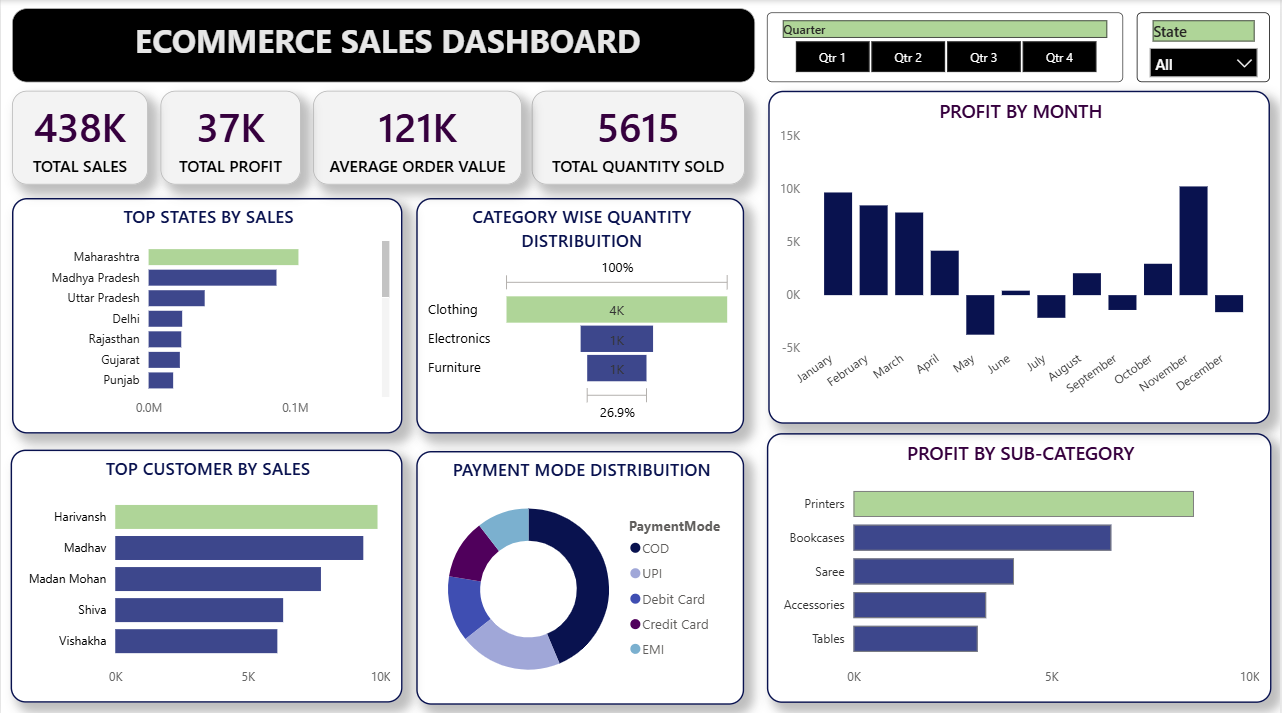

This screenshot's page, from the dashboard's own definition file:
{"tool":"powerbi","page":{"name":"Page 1","canvas":[1280,720],"ordinal":0},"visuals":[{"type":"textbox","box":[11.3,8.1,743.5,74.2],"z":0},{"type":"columnChart","title":"PROFIT BY MONTH","fields":{"Y":["Sum(Details.Profit)"],"Category":["Orders.Order Date.Variation.Date Hierarchy.Month"]},"box":[767.4,90.8,502,332.8],"z":1000},{"type":"barChart","title":"PROFIT BY SUB-CATEGORY","fields":{"Category":["Details.Sub-Category"],"Y":["Sum(Details.Profit)"]},"box":[766,433.2,504.7,269.6],"z":2000},{"type":"funnel","title":"CATEGORY WISE QUANTITY DISTRIBUITION","fields":{"Category":["Details.Category"],"Y":["Sum(Details.Quantity)"]},"box":[414.9,198.5,328.4,235.8],"z":3000},{"type":"donutChart","title":"PAYMENT MODE  DISTRIBUITION","fields":{"Category":["Details.PaymentMode"],"Y":["Sum(Details.Quantity)"]},"box":[414.9,450.7,328.4,253.7],"z":4000},{"type":"card","fields":{"Values":["Sum(Details.Amount)"]},"box":[11,90.8,136.2,93.5],"z":5000},{"type":"card","fields":{"Values":["Sum(Details.Quantity)"]},"box":[530.9,90.8,213.2,93.5],"z":6000},{"type":"card","fields":{"Values":["Sum(Details.Profit)"]},"box":[159.5,90.8,140.3,93.5],"z":7000},{"type":"card","fields":{"Values":["Sum(Details.Average_Order Value)"]},"box":[312.2,90.8,209,93.5],"z":8000},{"type":"barChart","title":"TOP STATES BY SALES","fields":{"Category":["Orders.State"],"Y":["Sum(Details.Amount)"]},"box":[11.3,198.4,390.3,235.5],"z":9000},{"type":"barChart","title":"TOP CUSTOMER BY SALES","fields":{"Y":["Sum(Details.Amount)"],"Category":["Orders.CustomerName"]},"box":[9.7,450,391.9,253.2],"z":10000},{"type":"slicer","fields":{"Values":["Orders.Order Date.Variation.Date Hierarchy.Quarter"]},"box":[766,12.4,356.2,70.1],"z":11000},{"type":"slicer","fields":{"Values":["Orders.State"]},"box":[1136,12.4,133.4,70.1],"z":12000}]}

Visuals, with their boxes in screenshot pixels (x1, y1, x2, y2), scaled from the page's 1280x720 canvas onto the 1282x713 screenshot:
textbox: [x1=11, y1=8, x2=756, y2=81]
"PROFIT BY MONTH" columnChart: [x1=769, y1=90, x2=1271, y2=419]
"PROFIT BY SUB-CATEGORY" barChart: [x1=767, y1=429, x2=1273, y2=696]
"CATEGORY WISE QUANTITY DISTRIBUITION" funnel: [x1=416, y1=197, x2=744, y2=430]
"PAYMENT MODE  DISTRIBUITION" donutChart: [x1=416, y1=446, x2=744, y2=698]
card - Sum(Details.Amount): [x1=11, y1=90, x2=147, y2=183]
card - Sum(Details.Quantity): [x1=532, y1=90, x2=745, y2=183]
card - Sum(Details.Profit): [x1=160, y1=90, x2=300, y2=183]
card - Sum(Details.Average_Order Value): [x1=313, y1=90, x2=522, y2=183]
"TOP STATES BY SALES" barChart: [x1=11, y1=196, x2=402, y2=430]
"TOP CUSTOMER BY SALES" barChart: [x1=10, y1=446, x2=402, y2=696]
slicer - Orders.Order Date.Variation.Date Hierarchy.Quarter: [x1=767, y1=12, x2=1124, y2=82]
slicer - Orders.State: [x1=1138, y1=12, x2=1271, y2=82]
